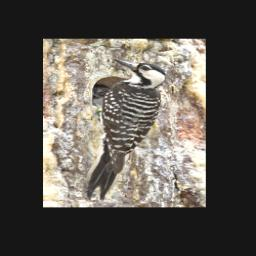Woodpecker: (83, 58, 167, 202)
